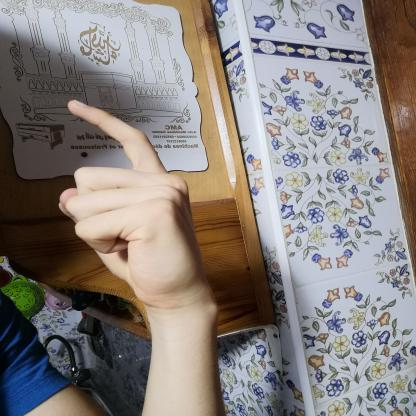RAA: (43, 88, 228, 316)
